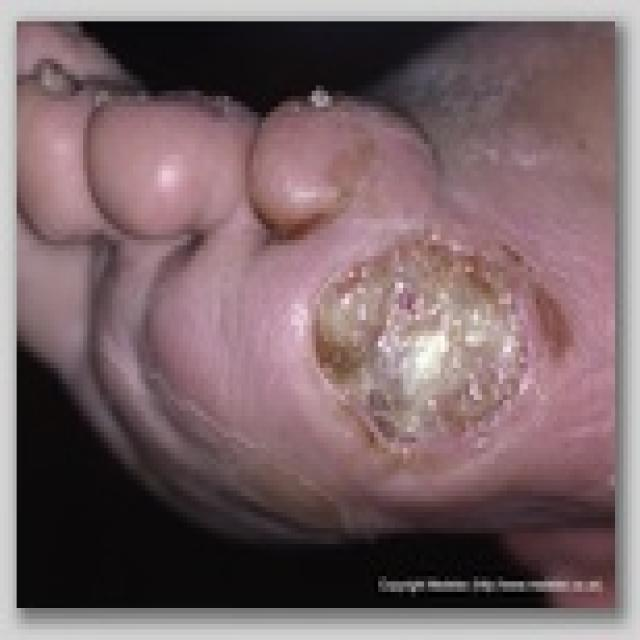wound: (308, 224, 536, 459)
